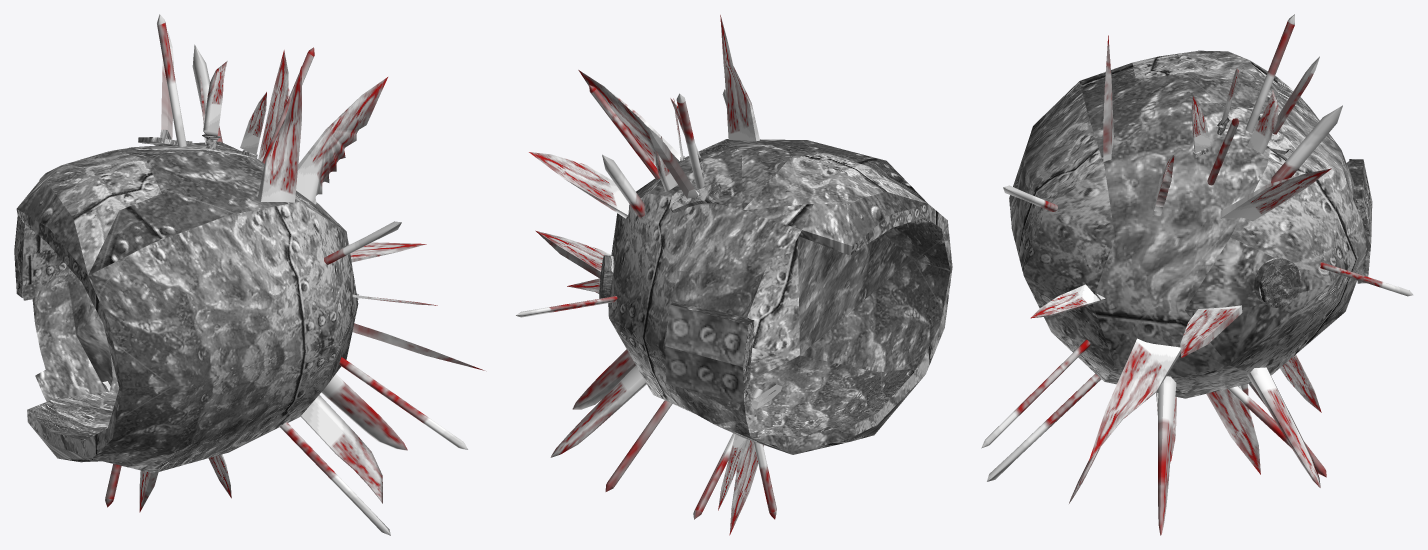
Rendered from WinslowHelmet.fbx.
3 views of the same model, side by side, from view 1: azimuth 30°, elevation 25°; view 2: azimuth 150°, elevation 25°; view 3: azimuth 270°, elevation 25° (orthographic). The views are drawn at different scales.
Visible parts, largest first — view 1: M_SPHhelmet.001; view 2: M_SPHhelmet.001; view 3: M_SPHhelmet.001.
Part boxes in pixels (x1,y1,x2,y2): M_SPHhelmet.001: (14,14,484,535); M_SPHhelmet.001: (516,15,952,535); M_SPHhelmet.001: (981,14,1412,535).
Bounding box in the file's own units: 0.2228 × 0.2604 × 0.2106.
